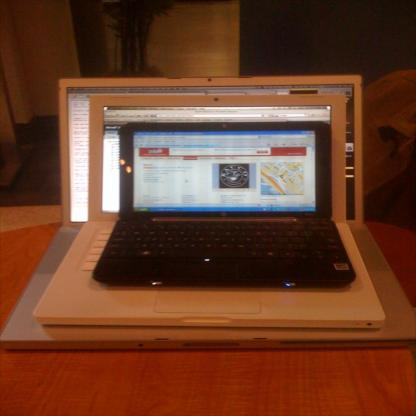board: (0, 74, 416, 352), (33, 93, 387, 326), (90, 123, 356, 287)
